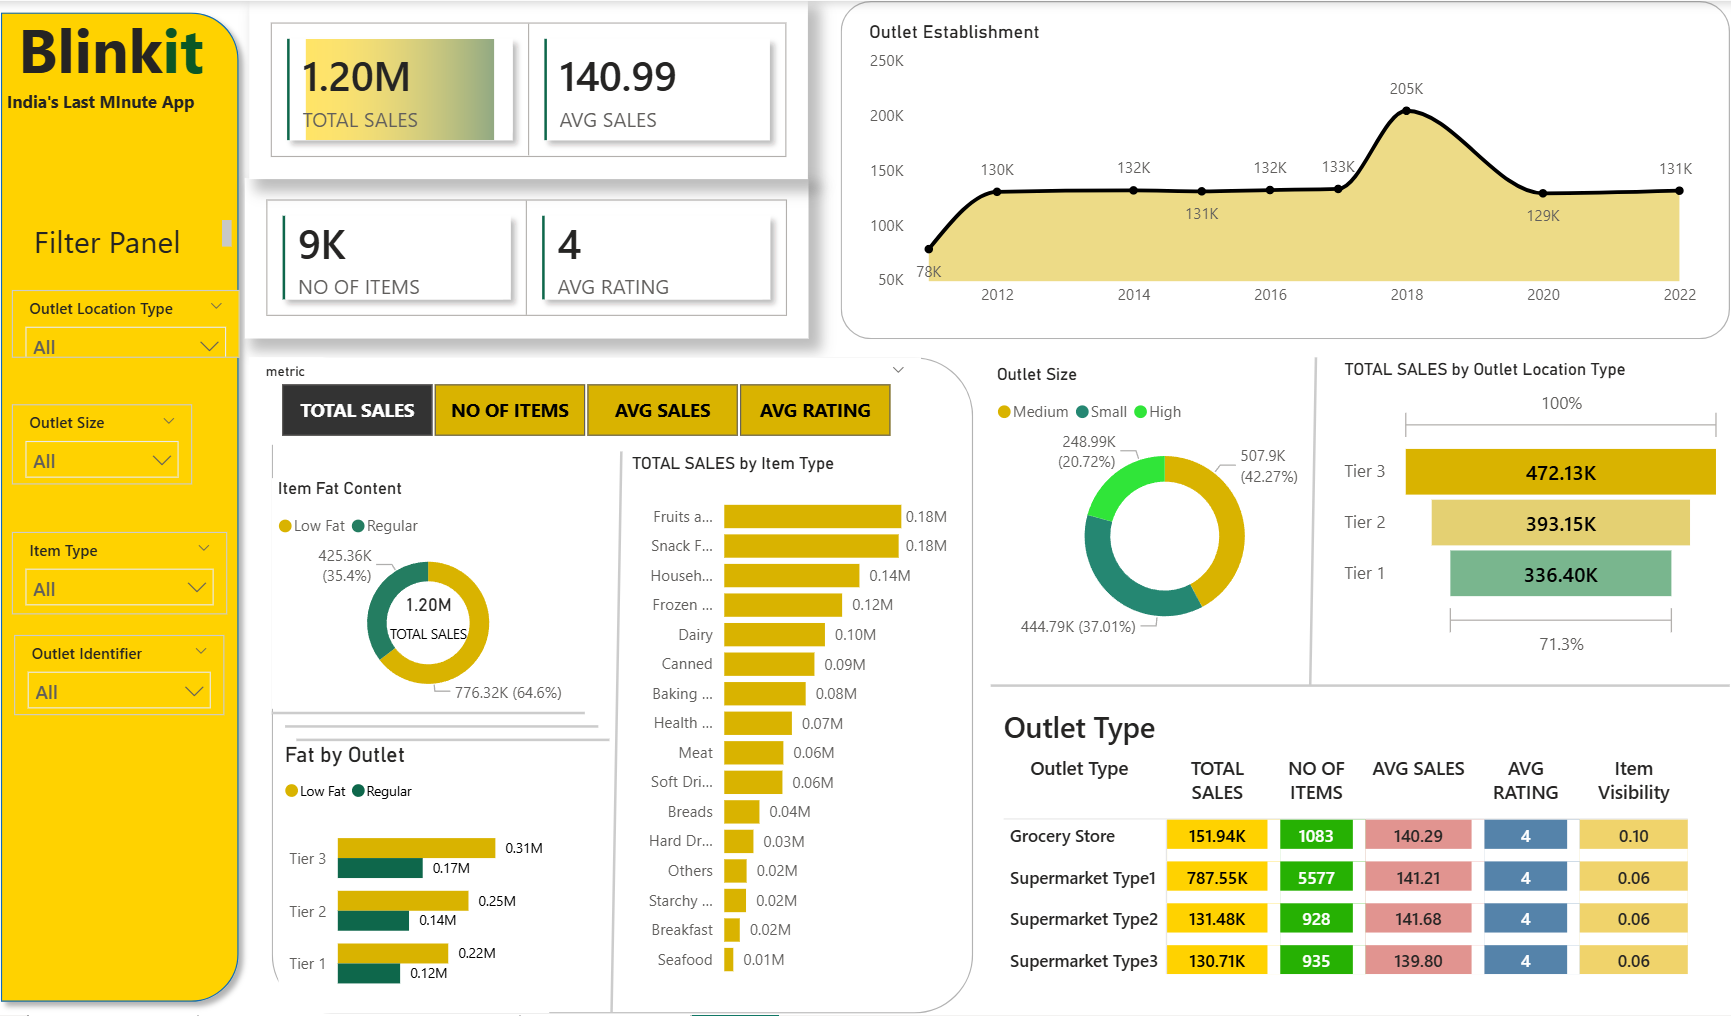

The dashboard page shown, as its layout file describes it:
{"tool":"powerbi","page":{"name":"Page 1","canvas":[1400,800],"ordinal":0},"visuals":[{"type":"shape","box":[9.9,0,205.7,799.2],"z":0},{"type":"textbox","box":[453,637,118.7,112.8],"z":1000},{"type":"textbox","box":[27.7,0,170.1,85.1],"z":2000},{"type":"textbox","box":[19.8,65.3,187.9,39.6],"z":3000},{"type":"cardVisual","fields":{"Data":["BlinkIT Grocery Data.NO OF ITEMS","BlinkIT Grocery Data.AVG RATING"]},"box":[211.7,140.4,445.1,126.6],"z":4000},{"type":"cardVisual","fields":{"Data":["BlinkIT Grocery Data.TOTAL SALES","BlinkIT Grocery Data.AVG SALES"]},"box":[215.6,0,441.1,140.4],"z":5000},{"type":"shape","box":[233.4,280.9,553.9,518.3],"z":6000},{"type":"slicer","fields":{"Values":["metric.metric"]},"box":[215.6,280.9,530.1,69.2],"z":7000},{"type":"donutChart","title":"Item Fat Content","fields":{"Category":["BlinkIT Grocery Data.Item Fat Content"],"Y":["Sum(BlinkIT Grocery Data.Sales)"]},"box":[233.4,375.8,247.3,182],"z":8000},{"type":"card","fields":{"Values":["BlinkIT Grocery Data.TOTAL SALES"]},"box":[308.6,447.1,98.9,75.2],"z":9000},{"type":"clusteredBarChart","title":"Fat by Outlet","fields":{"Y":["BlinkIT Grocery Data.TOTAL SALES"],"Category":["BlinkIT Grocery Data.Outlet Location Type"],"Series":["BlinkIT Grocery Data.Item Fat Content"]},"box":[239.4,585.5,213.6,213.6],"z":10000},{"type":"shape","box":[233.4,540,247.3,45.5],"z":11000},{"type":"shape","box":[243.4,550,247.3,45.5],"z":12000},{"type":"shape","box":[253.4,560,247.3,45.5],"z":13000},{"type":"shape","box":[498.5,356.1,13.8,443.1],"z":14000},{"type":"barChart","fields":{"Y":["BlinkIT Grocery Data.TOTAL SALES"],"Category":["BlinkIT Grocery Data.Item Type"]},"box":[512.3,358,259.1,423.3],"z":15000},{"type":"shape","box":[682.5,0,702.2,267],"z":16000},{"type":"lineChart","title":" Outlet Establishment ","fields":{"Category":["BlinkIT Grocery Data.Outlet Establishment Year"],"Y":["BlinkIT Grocery Data.TOTAL SALES"]},"box":[700.3,15.8,662.7,235.4],"z":17000},{"type":"donutChart","title":"Outlet Size","fields":{"Category":["BlinkIT Grocery Data.Outlet Size"],"Y":["BlinkIT Grocery Data.TOTAL SALES"]},"box":[801.1,286.8,275,225.5],"z":18000},{"type":"shape","box":[1048.4,280.9,13.8,259.1],"z":19000},{"type":"funnel","fields":{"Category":["BlinkIT Grocery Data.Outlet Location Type"],"Y":["BlinkIT Grocery Data.TOTAL SALES"]},"box":[1076.1,282.9,308.6,239.4],"z":20000},{"type":"shape","box":[801.1,522.2,583.6,37.6],"z":21000},{"type":"pivotTable","title":"Outlet Type","fields":{"Rows":["BlinkIT Grocery Data.Outlet Type"],"Values":["BlinkIT Grocery Data.TOTAL SALES","BlinkIT Grocery Data.NO OF ITEMS","BlinkIT Grocery Data.AVG SALES","BlinkIT Grocery Data.AVG RATING","Avg(BlinkIT Grocery Data.Item Visibility)"]},"box":[807.1,557.8,555.9,241.3],"z":22000},{"type":"slicer","fields":{"Values":["BlinkIT Grocery Data.Outlet Location Type"]},"box":[27.7,227.5,180,53.4],"z":23000},{"type":"slicer","fields":{"Values":["BlinkIT Grocery Data.Outlet Size"]},"box":[27.7,318.5,142.4,63.3],"z":24000},{"type":"slicer","fields":{"Values":["BlinkIT Grocery Data.Item Type"]},"box":[27.7,419.4,170.1,65.3],"z":25000},{"type":"textbox","box":[41.5,168.1,166.2,35.6],"z":26000},{"type":"slicer","fields":{"Values":["BlinkIT Grocery Data.Outlet Identifier"]},"box":[29.7,500.5,166.2,63.3],"z":26001}]}

Visuals, with their boxes in screenshot pixels (x1, y1, x2, y2), scaled from the page's 1400x800 canvas onto the 1731x1016 screenshot:
shape: [12, 0, 267, 1015]
textbox: [560, 809, 707, 952]
textbox: [34, 0, 245, 108]
textbox: [24, 83, 257, 133]
cardVisual - BlinkIT Grocery Data.NO OF ITEMS x BlinkIT Grocery Data.AVG RATING: [262, 178, 812, 339]
cardVisual - BlinkIT Grocery Data.TOTAL SALES x BlinkIT Grocery Data.AVG SALES: [267, 0, 812, 178]
shape: [289, 357, 973, 1015]
slicer - metric.metric: [267, 357, 922, 445]
"Item Fat Content" donutChart: [289, 477, 594, 708]
card - BlinkIT Grocery Data.TOTAL SALES: [382, 568, 504, 663]
"Fat by Outlet" clusteredBarChart: [296, 744, 560, 1015]
shape: [289, 686, 594, 744]
shape: [301, 698, 607, 756]
shape: [313, 711, 619, 769]
shape: [616, 452, 633, 1015]
barChart - BlinkIT Grocery Data.TOTAL SALES x BlinkIT Grocery Data.Item Type: [633, 455, 954, 992]
shape: [844, 0, 1712, 339]
" Outlet Establishment " lineChart: [866, 20, 1685, 319]
"Outlet Size" donutChart: [991, 364, 1331, 651]
shape: [1296, 357, 1313, 686]
funnel - BlinkIT Grocery Data.Outlet Location Type x BlinkIT Grocery Data.TOTAL SALES: [1331, 359, 1712, 663]
shape: [991, 663, 1712, 711]
"Outlet Type" pivotTable: [998, 708, 1685, 1015]
slicer - BlinkIT Grocery Data.Outlet Location Type: [34, 289, 257, 357]
slicer - BlinkIT Grocery Data.Outlet Size: [34, 404, 210, 485]
slicer - BlinkIT Grocery Data.Item Type: [34, 533, 245, 616]
textbox: [51, 213, 257, 259]
slicer - BlinkIT Grocery Data.Outlet Identifier: [37, 636, 242, 716]
